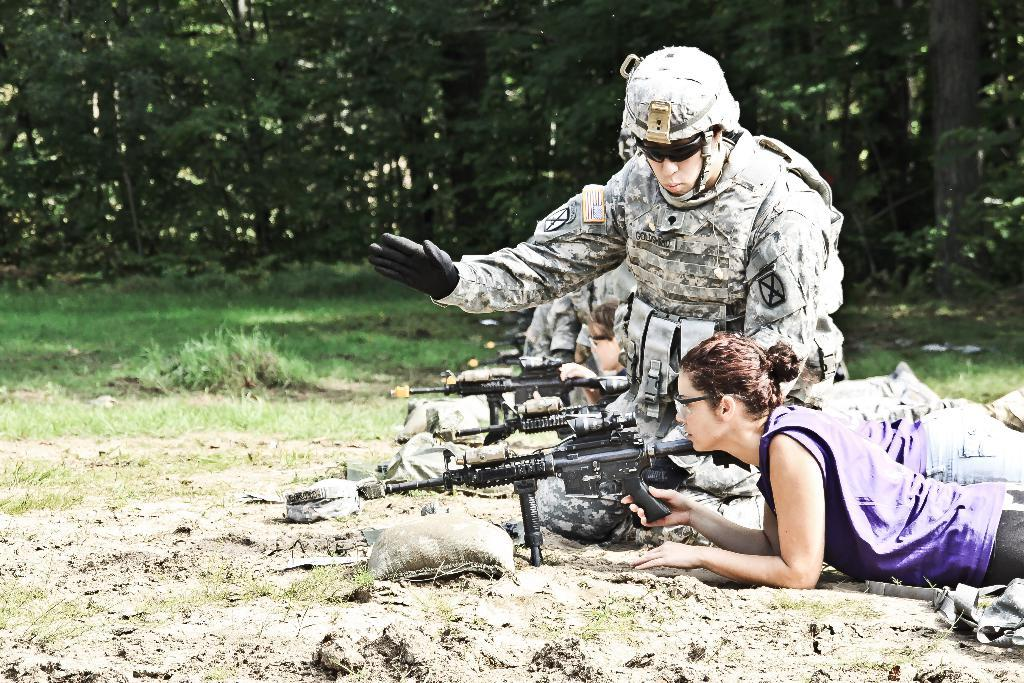Rifle: (384, 406, 753, 565), (389, 355, 629, 405), (433, 395, 602, 446)
